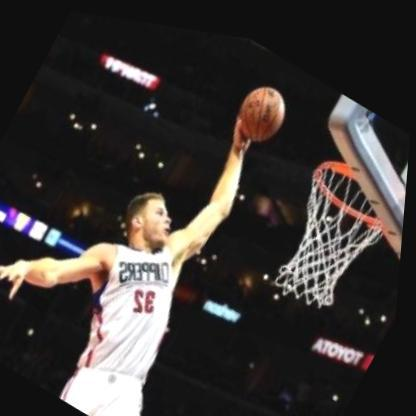basketball: (227, 62, 300, 145)
